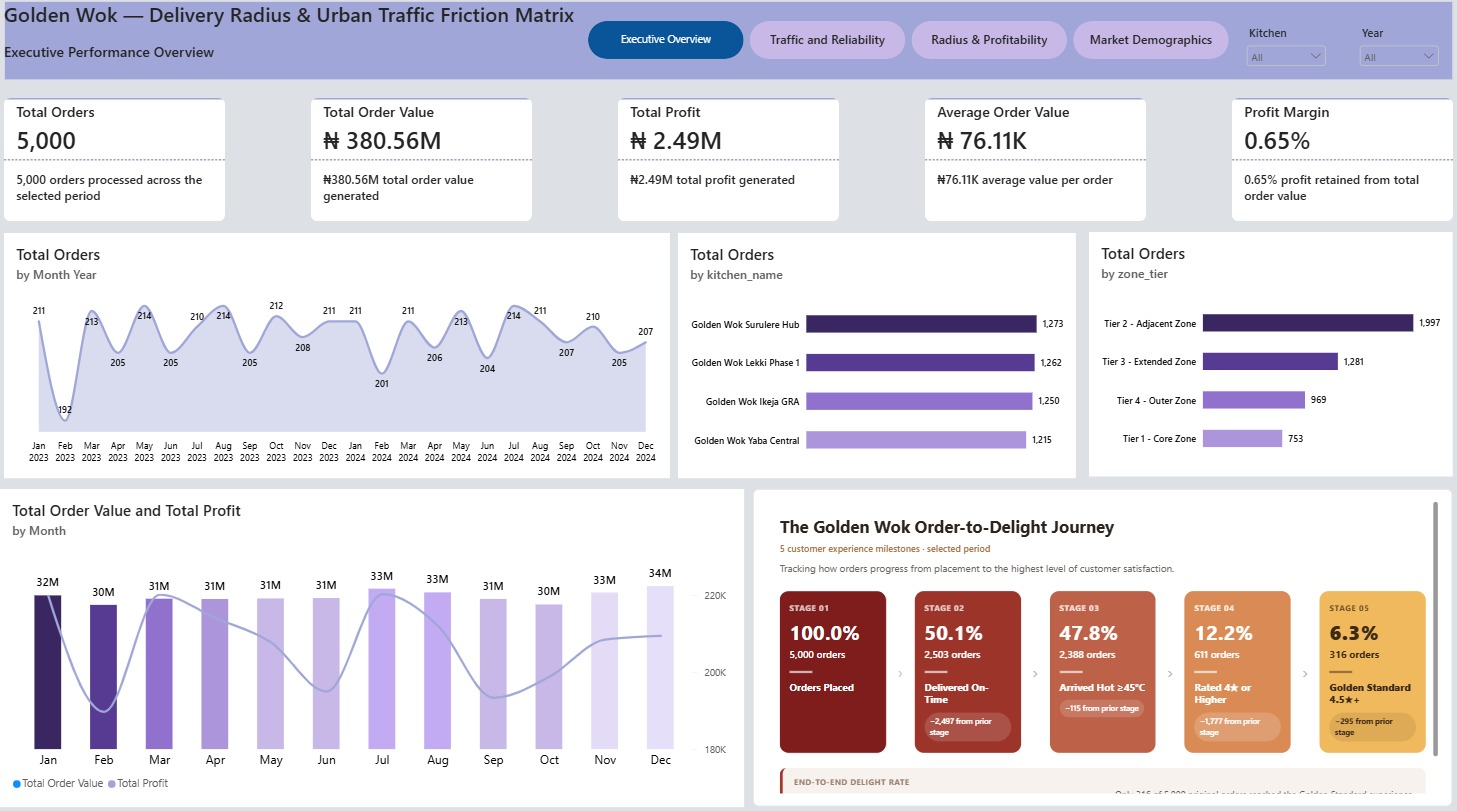

The dashboard page shown, as its layout file describes it:
{"tool":"powerbi","page":{"name":"Executive Overview","canvas":[1920,1080],"ordinal":0},"visuals":[{"type":"shape","box":[5.7,10,1908.6,104.3],"z":0},{"type":"cardVisual","fields":{"Data":["Dax Measure.Total Orders"]},"box":[5.6,138.9,291.7,162.5],"z":1000},{"type":"cardVisual","fields":{"Data":["Dax Measure.Total Order Value"]},"box":[409.7,138.9,291.7,162.5],"z":2000},{"type":"cardVisual","fields":{"Data":["Dax Measure.Total Profit"]},"box":[813.9,138.9,291.7,162.5],"z":3000},{"type":"cardVisual","fields":{"Data":["Dax Measure.Average Order Value"]},"box":[1218.1,138.9,291.7,162.5],"z":4000},{"type":"cardVisual","fields":{"Data":["Dax Measure.Profit Margin"]},"box":[1622.2,138.9,291.7,162.5],"z":5000},{"type":"areaChart","fields":{"Category":["Date.Month Year"],"Y":["Dax Measure.Total Orders"]},"box":[5.7,315.7,877.1,322.9],"z":6000},{"type":"lineClusteredColumnComboChart","fields":{"Category":["Date.Month"],"Y":["Dax Measure.Total Order Value"],"Y2":["Dax Measure.Total Profit"]},"box":[0,652.9,980,418.6],"z":7000},{"type":"clusteredBarChart","fields":{"Category":["dim_kitchen.kitchen_name"],"Y":["Dax Measure.Total Orders"]},"box":[892.9,315.7,524.3,322.9],"z":8000},{"type":"clusteredBarChart","fields":{"Category":["dim_delivery_zone.zone_tier"],"Y":["Dax Measure.Total Orders"]},"box":[1434.7,315.3,479.2,322.2],"z":9000},{"type":"htmlContent443BE3AD55E043BF878BED274D3A6865","fields":{"content":["Dax Measure.HTML - Order to Delight Funnel"]},"box":[991.8,653.3,920.6,417.5],"z":10000},{"type":"textbox","box":[5.4,9.5,759.5,105.4],"z":11000},{"type":"pageNavigator","box":[774.3,36.5,847.3,50],"z":11001},{"type":"slicer","fields":{"Values":["dim_rider.vehicle_type"]},"box":[1636.5,41.9,113.5,60.8],"z":11002},{"type":"slicer","fields":{"Values":["Date.Date.Variation.Date Hierarchy.Year"]},"box":[1786.5,41.9,113.5,60.8],"z":11003}]}

Visuals, with their boxes in screenshot pixels (x1, y1, x2, y2), scaled from the page's 1920x1080 canvas onto the 1457x811 screenshot:
shape: region(4, 8, 1453, 86)
cardVisual - Dax Measure.Total Orders: region(4, 104, 226, 226)
cardVisual - Dax Measure.Total Order Value: region(311, 104, 532, 226)
cardVisual - Dax Measure.Total Profit: region(618, 104, 839, 226)
cardVisual - Dax Measure.Average Order Value: region(924, 104, 1146, 226)
cardVisual - Dax Measure.Profit Margin: region(1231, 104, 1452, 226)
areaChart - Date.Month Year x Dax Measure.Total Orders: region(4, 237, 670, 480)
lineClusteredColumnComboChart - Date.Month x Dax Measure.Total Order Value: region(0, 490, 744, 805)
clusteredBarChart - dim_kitchen.kitchen_name x Dax Measure.Total Orders: region(678, 237, 1075, 480)
clusteredBarChart - dim_delivery_zone.zone_tier x Dax Measure.Total Orders: region(1089, 237, 1452, 479)
htmlContent443BE3AD55E043BF878BED274D3A6865 - Dax Measure.HTML - Order to Delight Funnel: region(753, 491, 1451, 804)
textbox: region(4, 7, 580, 86)
pageNavigator: region(588, 27, 1231, 65)
slicer - dim_rider.vehicle_type: region(1242, 31, 1328, 77)
slicer - Date.Date.Variation.Date Hierarchy.Year: region(1356, 31, 1442, 77)
